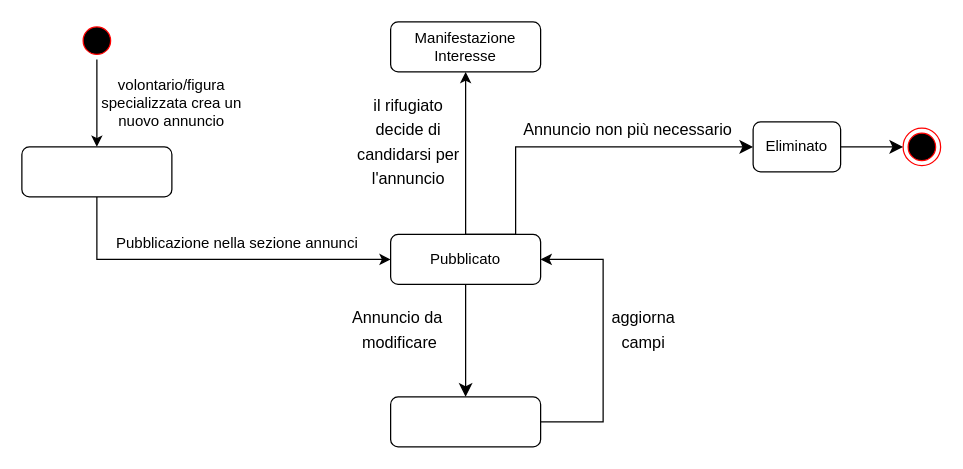
Image size: 963x469. Some labels were removed from this diagram. The shapes that lost their labels are listed below. From the top down, each one's centre as x and y in pixels, then its label:
At point 96,171: "Creato".
At point 465,421: "Modificato".
